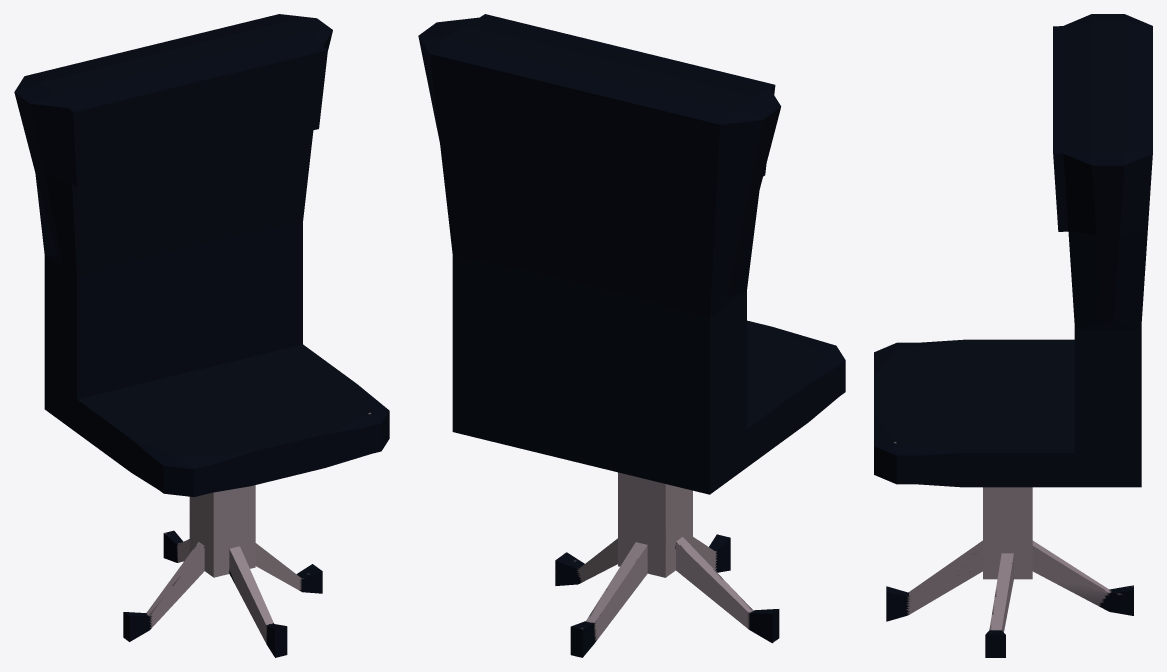
The model's file is comfortable_chair.fbx.
3 views of the same model, side by side, from view 1: azimuth 30°, elevation 25°; view 2: azimuth 150°, elevation 25°; view 3: azimuth 270°, elevation 25° (orthographic). The views are drawn at different scales.
Parts seen in each view (by area): view 1: comfortable_chair; view 2: comfortable_chair; view 3: comfortable_chair.
Part boxes in pixels (x1,y1,x2,y2): comfortable_chair: [14, 14, 389, 657]; comfortable_chair: [418, 14, 845, 657]; comfortable_chair: [874, 14, 1152, 657].
Size of the model in its own units: 191 by 314 by 149.
Materials: 1 (1 with a texture image).
